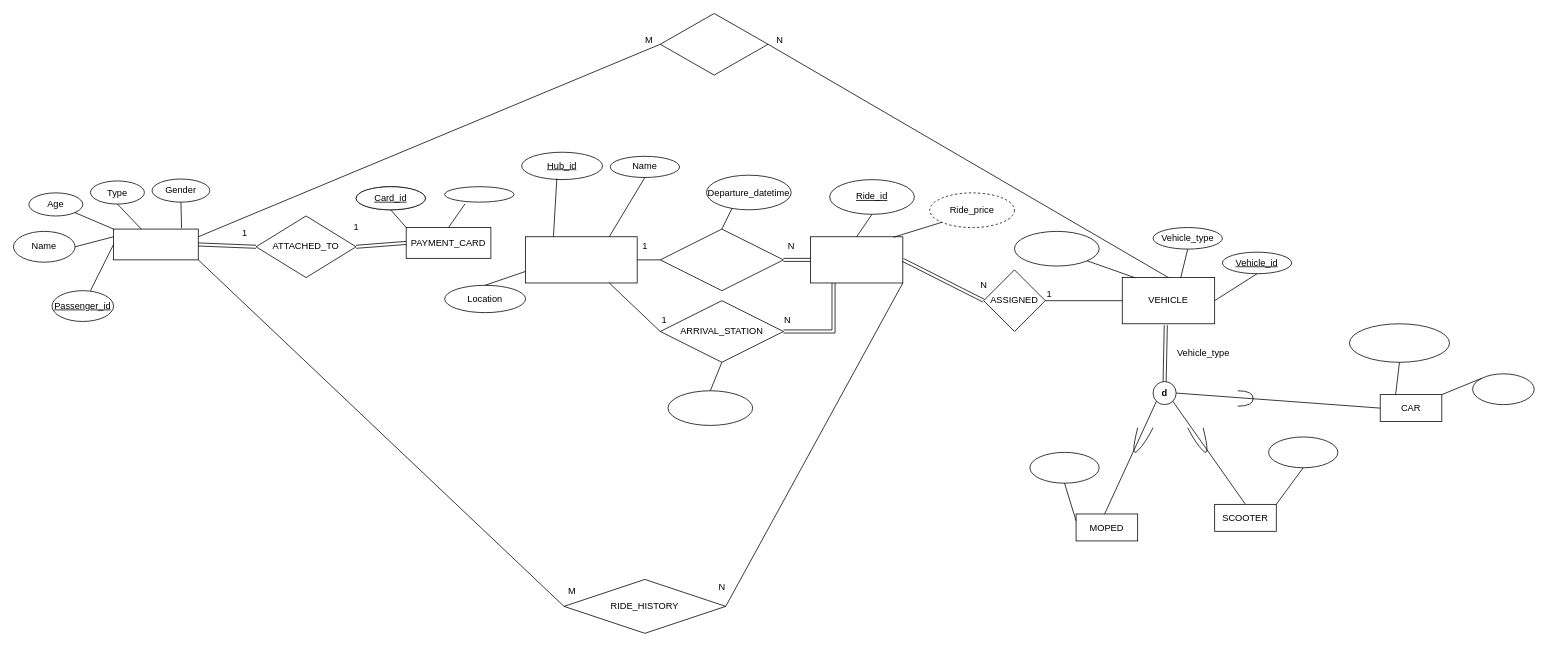
Some shapes in this 1548 by 647 pixel diagram are drawn without their labels. The centre of each missing label's shape, as x and y in pixels:
Arrival_datetime: pixel 710 407
Car_model: pixel 1503 389
DEPARTURE_STATION: pixel 721 259
Engine_serial_number: pixel 1399 342
Moped_model: pixel 1064 467
PASSENGER: pixel 155 244
price_per_minute: pixel 1056 248
RIDE: pixel 856 259
Scooter_model: pixel 1303 452
SEARCH_HISTORY: pixel 714 44
total_amount: pixel 479 194
TRANSPORTATION_HUB: pixel 581 259
